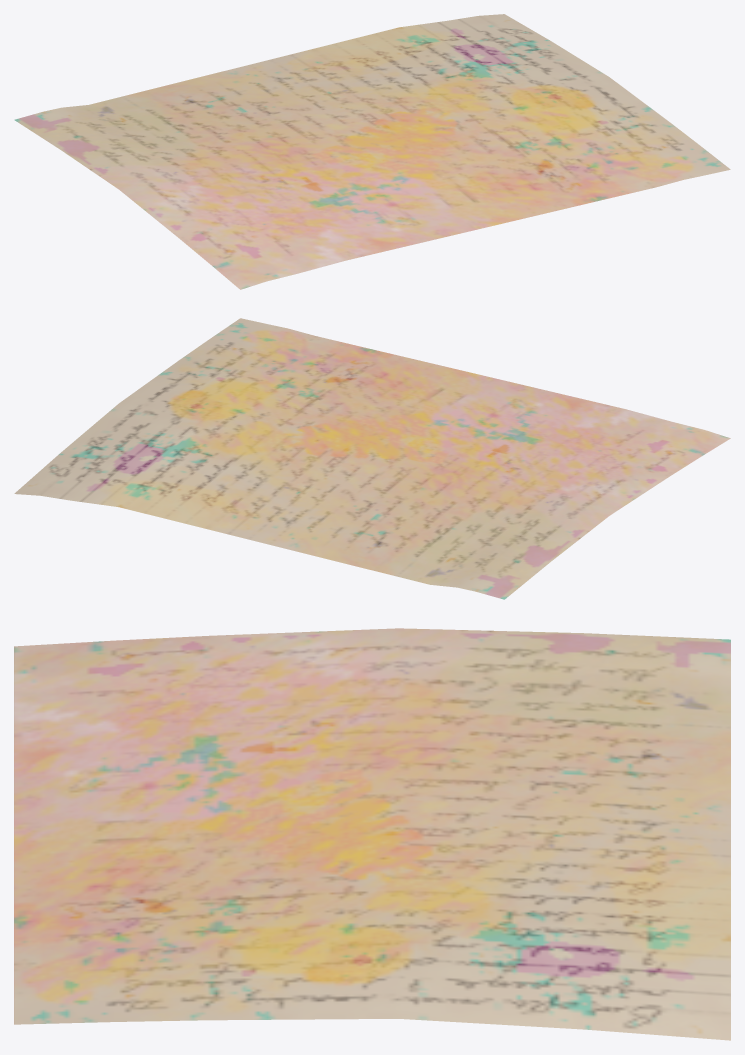
The model's file is SM_Paper_04.fbx.
3 views of the same model, one above another, from view 1: azimuth 30°, elevation 25°; view 2: azimuth 150°, elevation 25°; view 3: azimuth 270°, elevation 25° (orthographic). The views are drawn at different scales.
Parts seen in each view (by area): view 1: SM_Paper_04_LOD0; view 2: SM_Paper_04_LOD0; view 3: SM_Paper_04_LOD0.
Part boxes in pixels (x1,y1,x2,y2): SM_Paper_04_LOD0: (14, 14, 730, 289); SM_Paper_04_LOD0: (14, 318, 730, 599); SM_Paper_04_LOD0: (14, 628, 730, 1040).
Size of the model in its own units: 22.21 by 17.75 by 0.9734.
1 material, 1 textured.
